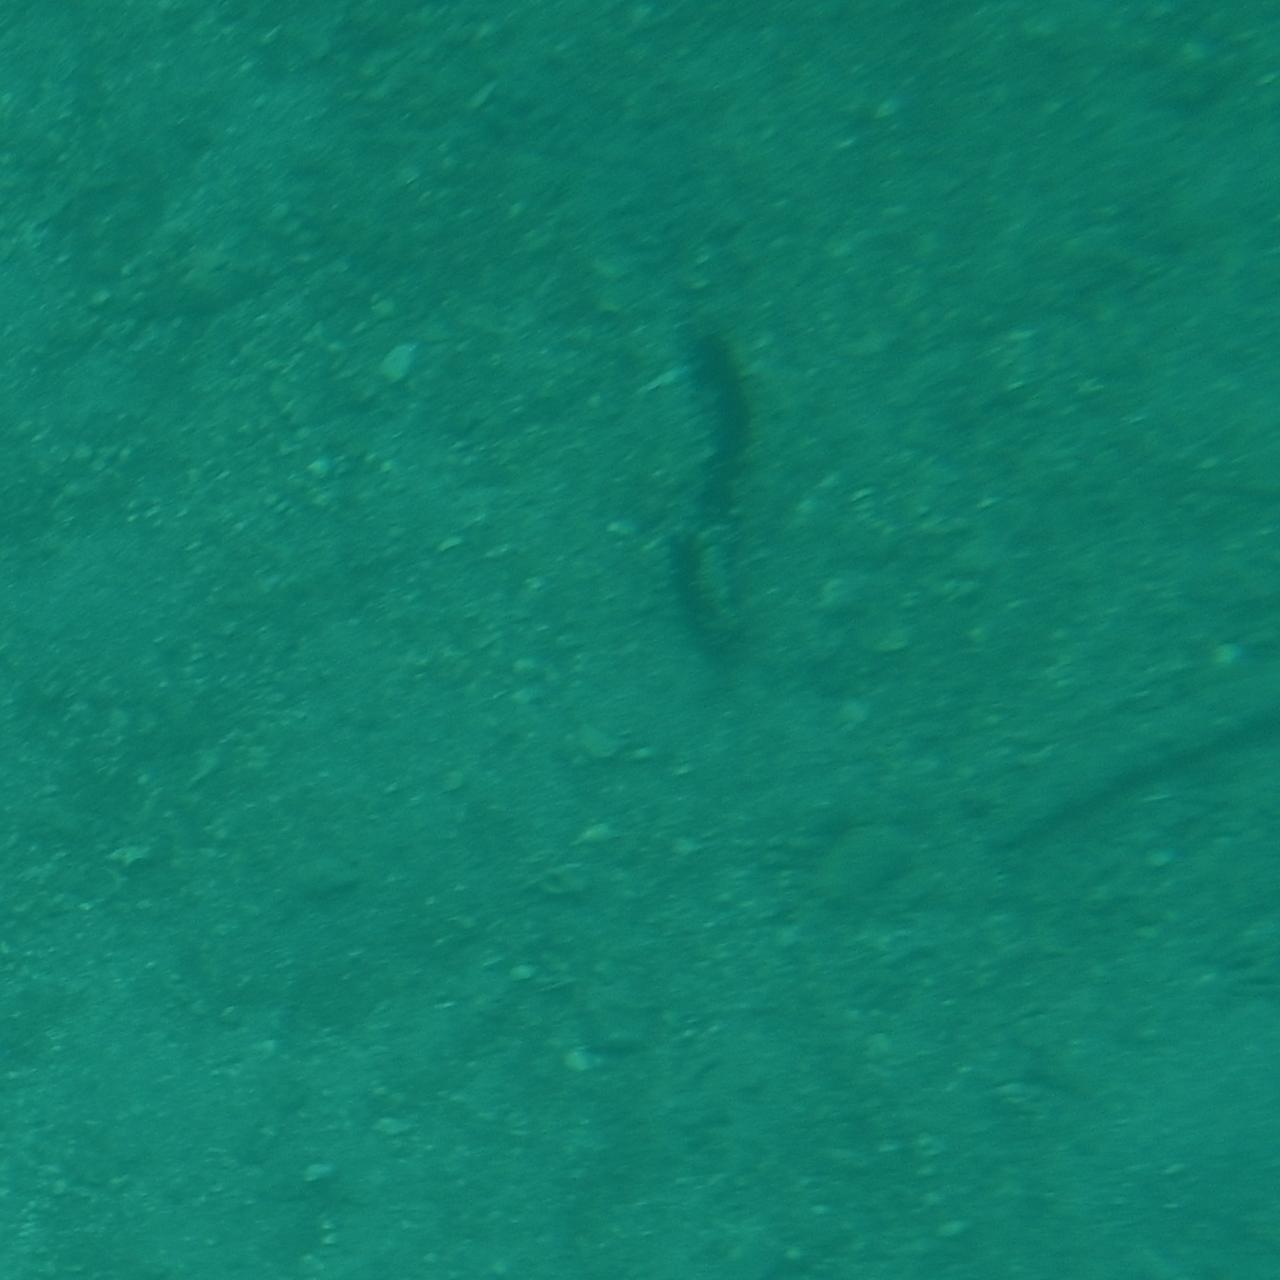Holothuria tubulosa: (987, 654, 1279, 856), (658, 294, 776, 756)
